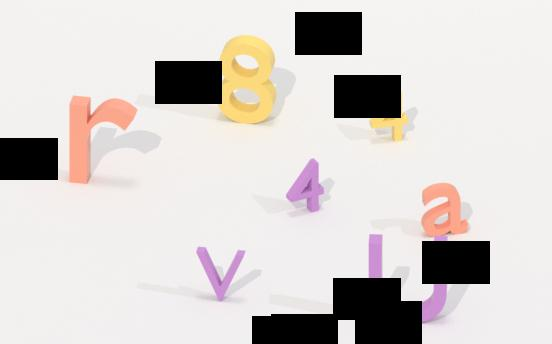4: (281, 155, 333, 214), (365, 85, 415, 146)
8: (211, 36, 282, 128)
R: (62, 95, 151, 187)
a: (419, 182, 471, 239)
u: (362, 228, 450, 327)
v: (190, 242, 250, 304)
